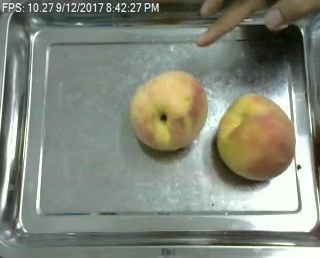Peach: (216, 93, 295, 181), (129, 70, 209, 152)
